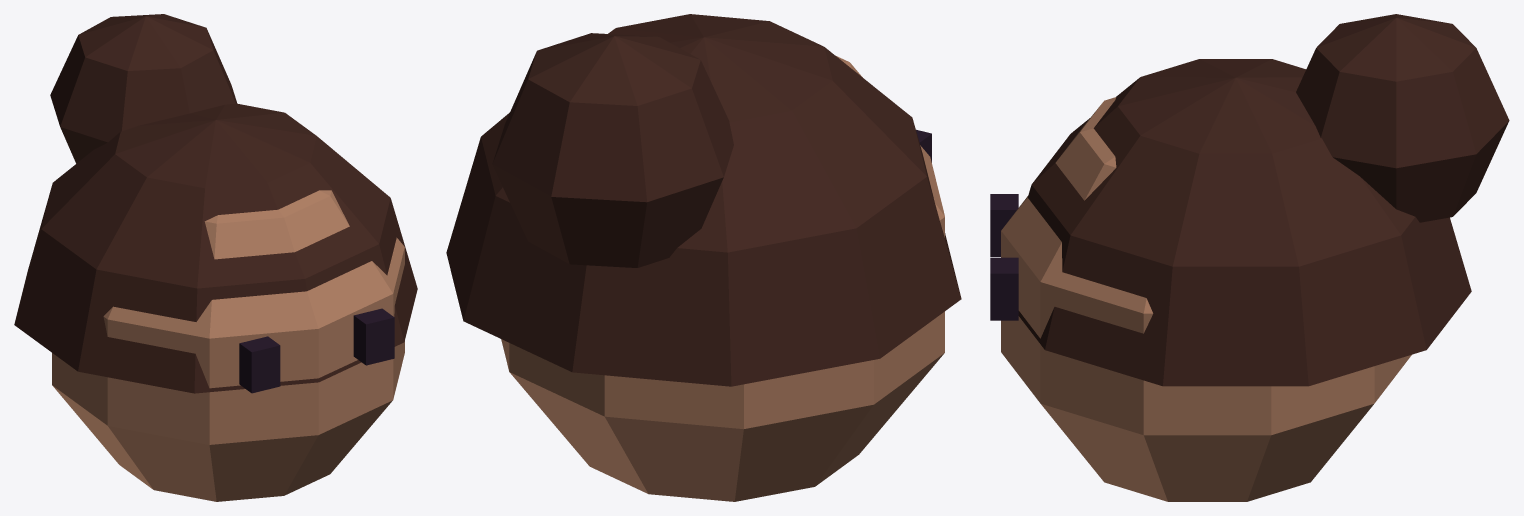
File: head_tova.gltf
The picture shows the model from 3 angles, left to right: view 1: azimuth 30°, elevation 25°; view 2: azimuth 150°, elevation 25°; view 3: azimuth 270°, elevation 25°; orthographic projection. The views are drawn at different scales.
Parts seen in each view (by area): view 1: hair, skin, bun, eyes; view 2: hair, bun, skin; view 3: hair, skin, bun, eyes.
Boxes of the visible parts, bbox=[...] form: hair: bbox=[14, 103, 417, 393]; skin: bbox=[52, 190, 404, 501]; bun: bbox=[50, 14, 237, 163]; eyes: bbox=[239, 308, 394, 393]; hair: bbox=[446, 14, 961, 386]; bun: bbox=[492, 33, 733, 267]; skin: bbox=[501, 56, 944, 501]; hair: bbox=[1018, 59, 1471, 386]; skin: bbox=[1001, 97, 1411, 501]; bun: bbox=[1296, 14, 1509, 222]; eyes: bbox=[990, 194, 1018, 320].
Size of the model in its own units: 0.4756 by 0.55 by 0.55.
